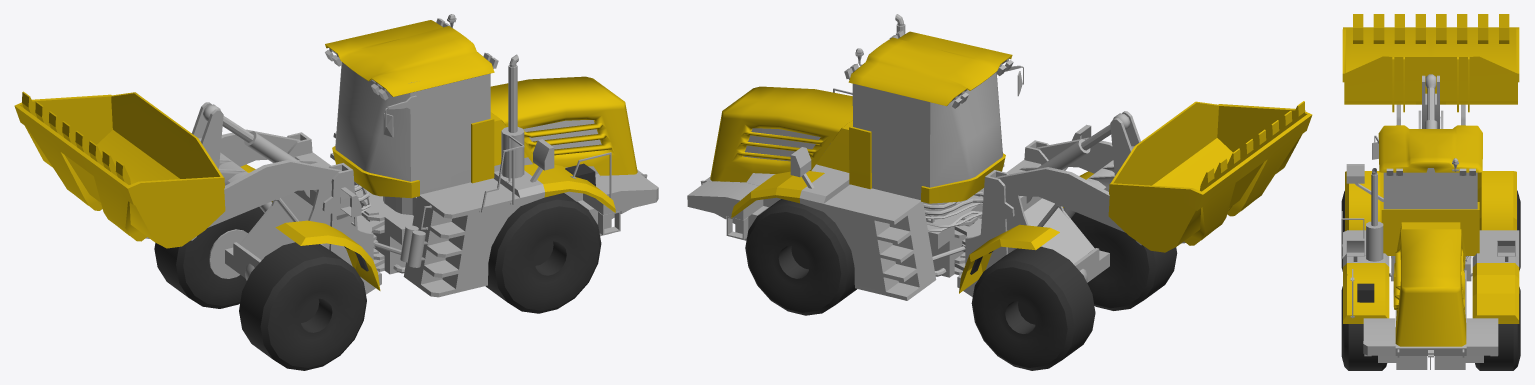
3 views of the same model, side by side, from view 1: azimuth 30°, elevation 25°; view 2: azimuth 150°, elevation 25°; view 3: azimuth 270°, elevation 25° (orthographic). The views are drawn at different scales.
Parts seen in each view (by area): view 1: Koleso_low, kovsh__low, kabina_low.001, kabina_low.002, krilo_pered_low.001, kapot_low.001, strela_osnov_low.002, bok_podem_low.002, soed_pered_low, podyom_center_low.001, Krolo_pered_dop_low.001, krilo_zad_low.002 (+9 smaller); view 2: Koleso_low, kovsh__low, kabina_low.001, dubli.001, kabina_low.002, kapot_low.001, strela_osnov_low.002, bok_podem_low.002, dubli.002, podyom_center_low.001, soed_pered_low, bamper_bok_low (+7 smaller); view 3: kovsh__low, kapot_low.001, kabina_low.002, dubli.002, kabina_low.001, Koleso_low, bamper_bok_low, krilo_pered_low.002, krilo_zad_low.002, dubli.001, Krolo_pered_dop_low.001, pered_niz_low (+9 smaller).
Part boxes in pixels (x1,y1,x2,y2): Koleso_low: (154,193,601,370); kovsh__low: (14,91,225,248); kabina_low.001: (328,47,490,194); kabina_low.002: (325,20,494,198); krilo_pered_low.001: (403,139,554,297); kapot_low.001: (490,76,637,175); strela_osnov_low.002: (145,129,341,238); bok_podem_low.002: (239,132,381,294); soed_pered_low: (356,190,416,274); podyom_center_low.001: (240,152,330,260); Krolo_pered_dop_low.001: (479,54,611,212); krilo_zad_low.002: (275,220,380,290); Koleso_low: (745,199,1177,370); kovsh__low: (1108,101,1312,252); kabina_low.001: (852,58,1009,200); dubli.001: (790,147,936,300); kabina_low.002: (848,31,1012,203); kapot_low.001: (710,86,852,182); strela_osnov_low.002: (996,137,1185,243); bok_podem_low.002: (957,124,1094,296); dubli.002: (731,171,1059,293); podyom_center_low.001: (1006,160,1093,263); soed_pered_low: (923,195,983,277); bamper_bok_low: (687,181,763,220); kovsh__low: (1342,14,1519,112); kapot_low.001: (1393,222,1466,346); kabina_low.002: (1378,125,1482,255); dubli.002: (1472,171,1519,323); kabina_low.001: (1383,168,1477,209); Koleso_low: (1341,190,1520,370); bamper_bok_low: (1363,318,1498,355); krilo_pered_low.002: (1343,263,1389,323); krilo_zad_low.002: (1345,171,1383,231); dubli.001: (1472,230,1519,266); Krolo_pered_dop_low.001: (1341,168,1383,318); pered_niz_low: (1364,354,1497,369).
Size of the model in its own units: 3523 by 1539 by 1266.
